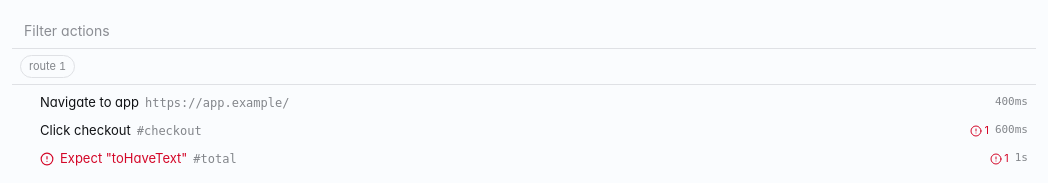
Scenario: ActionList — search › matches by selector param text (#checkout)
The image size is (1048, 183).
In the search field labelled "Filter actions": (524, 30) [12,12,1036,48], type "#checkout"
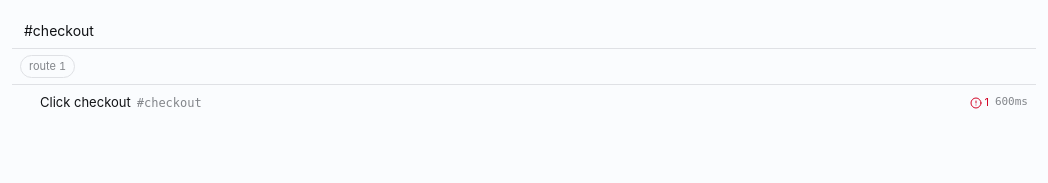
Expected: the text "Click checkout" is shown, [40,93,131,112]
Result: the option "Navigate to app" is gone
